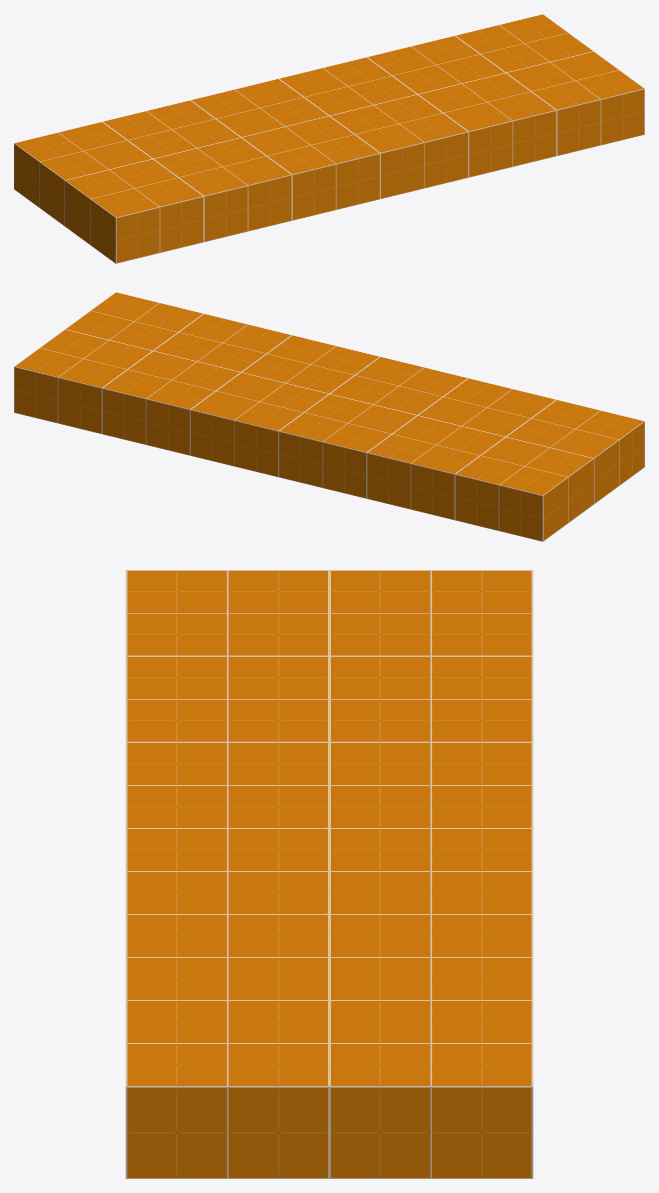
The model's file is Plate2_6x2.obj.
The picture shows the model from 3 angles, top to bottom: view 1: azimuth 30°, elevation 25°; view 2: azimuth 150°, elevation 25°; view 3: azimuth 270°, elevation 25°; orthographic projection. The views are drawn at different scales.
Parts seen in each view (by area): view 1: Plate2_6x2_Cube.297; view 2: Plate2_6x2_Cube.297; view 3: Plate2_6x2_Cube.297.
Boxes of the visible parts, <box> form: Plate2_6x2_Cube.297: <box>14,14,644,263</box>; Plate2_6x2_Cube.297: <box>14,292,644,541</box>; Plate2_6x2_Cube.297: <box>125,570,533,1178</box>.
Bounding box in the file's own units: 6 × 0.5 × 2.
Materials: 1 (1 with a texture image).
